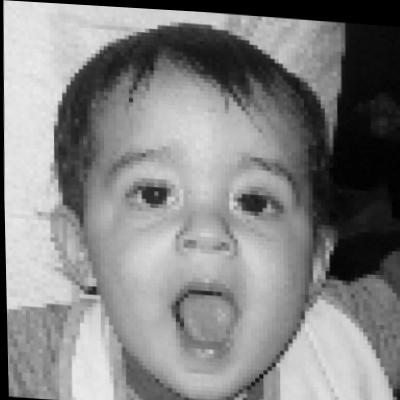surprise: (81, 51, 326, 399)
